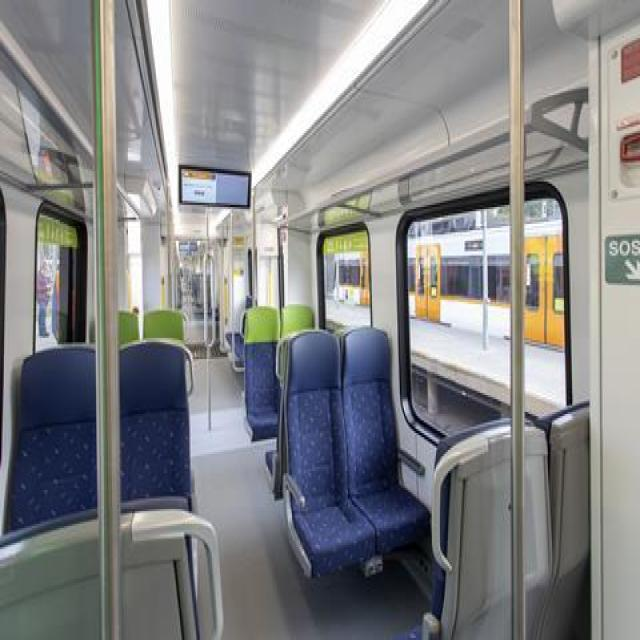seient: (281, 331, 375, 576), (342, 329, 429, 552), (431, 420, 511, 639), (8, 349, 96, 530), (535, 406, 590, 640), (121, 341, 192, 504), (245, 307, 279, 441), (525, 424, 551, 587)
